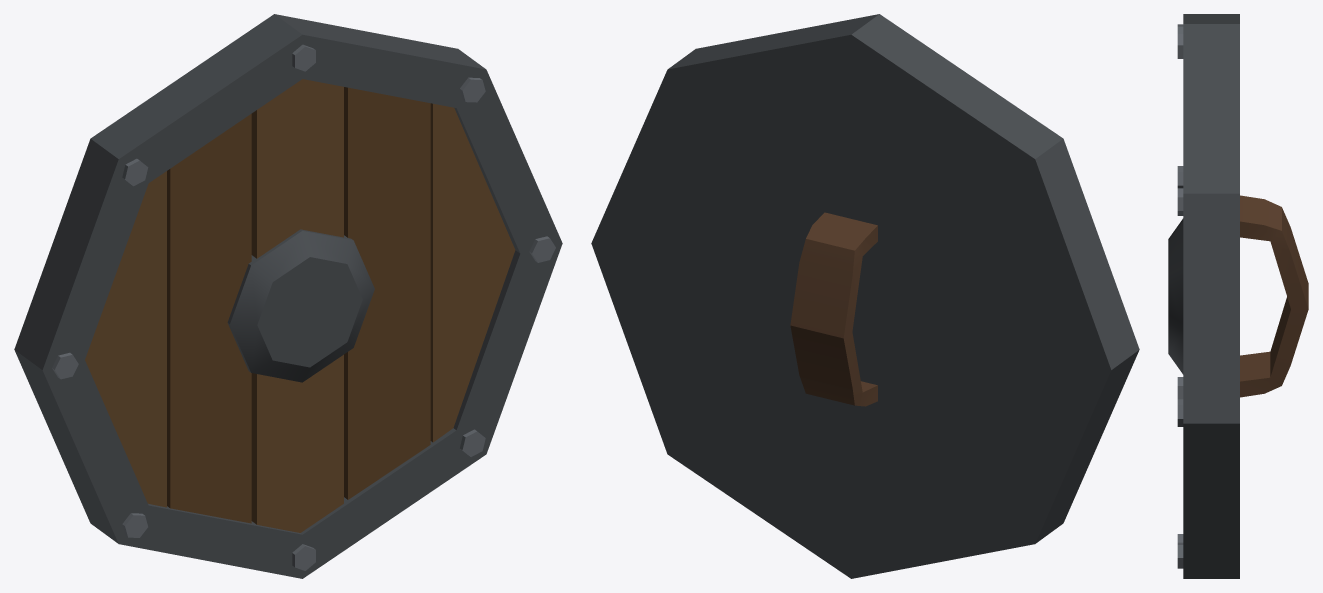
Rendered from Shield_02.fbx.
The picture shows the model from 3 angles, left to right: view 1: azimuth 30°, elevation 25°; view 2: azimuth 150°, elevation 25°; view 3: azimuth 270°, elevation 25°; orthographic projection.
Visible parts, largest first — view 1: Shield_02_LOD0; view 2: Shield_02_LOD0; view 3: Shield_02_LOD0.
Part boxes in pixels (<box>): Shield_02_LOD0: <box>14,14,562,578</box>; Shield_02_LOD0: <box>591,14,1139,578</box>; Shield_02_LOD0: <box>1168,14,1308,578</box>.
Size of what is drawn, in the model's own units: 0.7417 by 0.7417 by 0.173.
